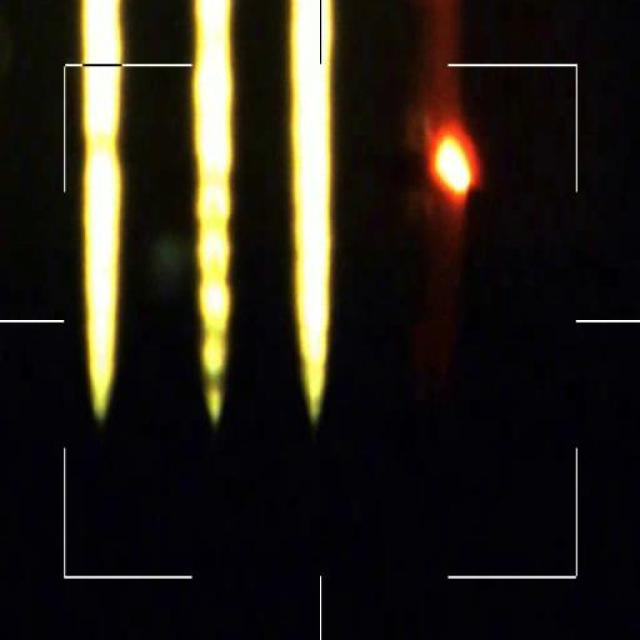bird: (428, 128, 474, 195)
